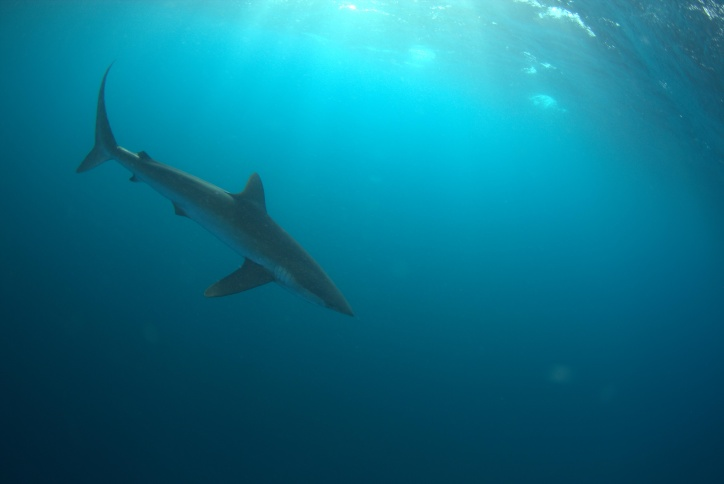Sedoso: (57, 57, 361, 324)
